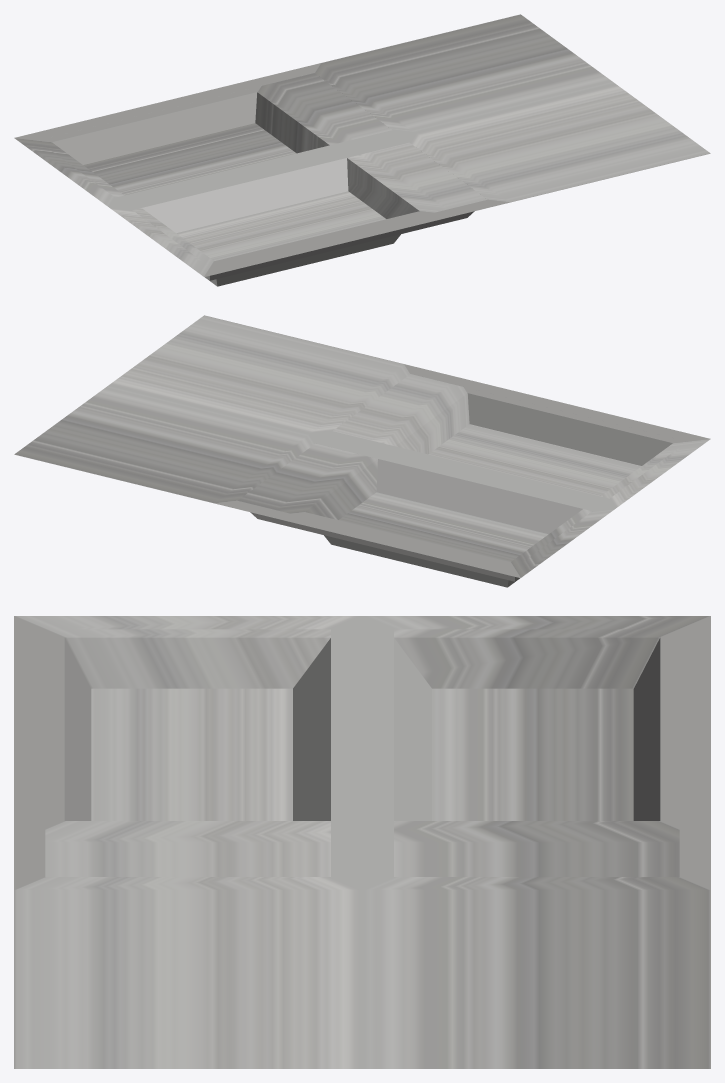
The model's file is cutlery_container.FBX.
3 views of the same model, one above another, from view 1: azimuth 30°, elevation 25°; view 2: azimuth 150°, elevation 25°; view 3: azimuth 270°, elevation 25° (orthographic). The views are drawn at different scales.
Visible parts, largest first — view 1: Object002, Object004; view 2: Object002, Object004; view 3: Object002, Object004.
Part boxes in pixels (bbox=[...]): Object002: bbox=[14, 14, 710, 280]; Object004: bbox=[38, 73, 487, 286]; Object002: bbox=[14, 315, 710, 581]; Object004: bbox=[237, 374, 686, 587]; Object002: bbox=[14, 616, 710, 1068]; Object004: bbox=[45, 629, 679, 876].
Size of the model in its own units: 48.27 by 3.4 by 31.4.
Materials: 1 (1 with a texture image).
